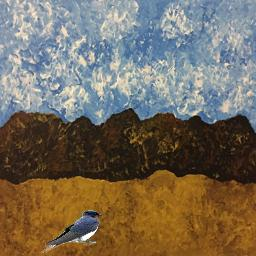Swallow: (38, 210, 103, 255)
